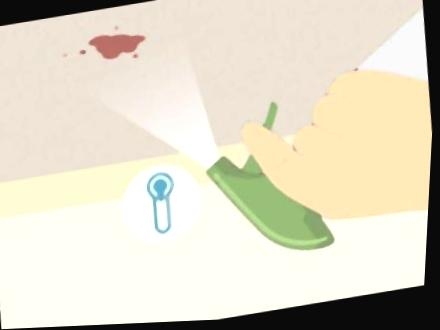Fire: (87, 35, 147, 61)
